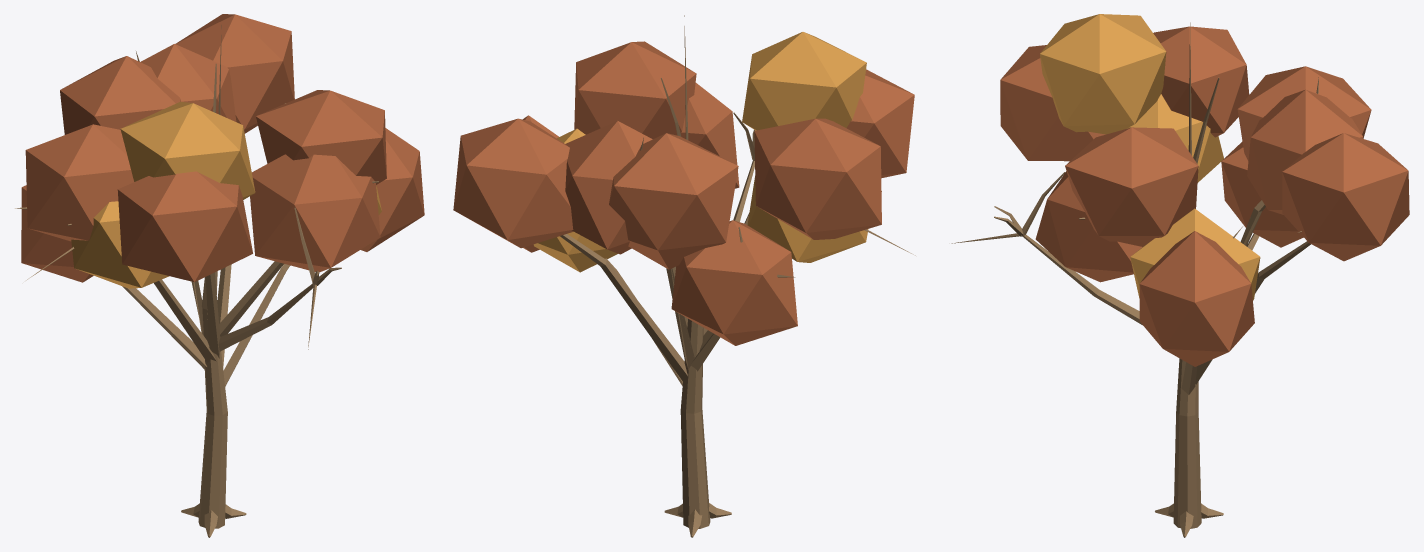
File: oak_winter_light_01.glb
3 renders of one model, left to right at view 1: azimuth 30°, elevation 25°; view 2: azimuth 150°, elevation 25°; view 3: azimuth 270°, elevation 25°, orthographic. The views are drawn at different scales.
Visible parts, largest first — view 1: Oak_winter_light_01; view 2: Oak_winter_light_01; view 3: Oak_winter_light_01.
Boxes of the visible parts, x1,y1,x2,y2 form: Oak_winter_light_01: (15,14,424,537); Oak_winter_light_01: (453,15,915,537); Oak_winter_light_01: (951,14,1409,537).
Size of the model in its own units: 13.98 by 16.03 by 13.09.
